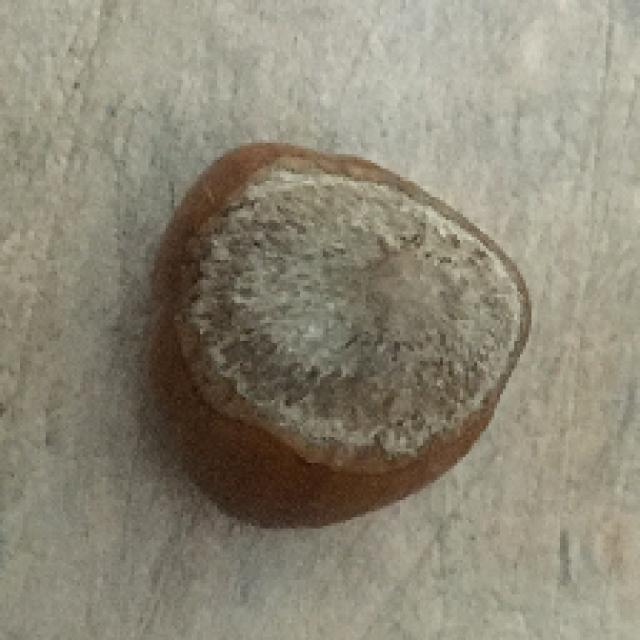qualityHazelnut: (152, 126, 530, 534)
